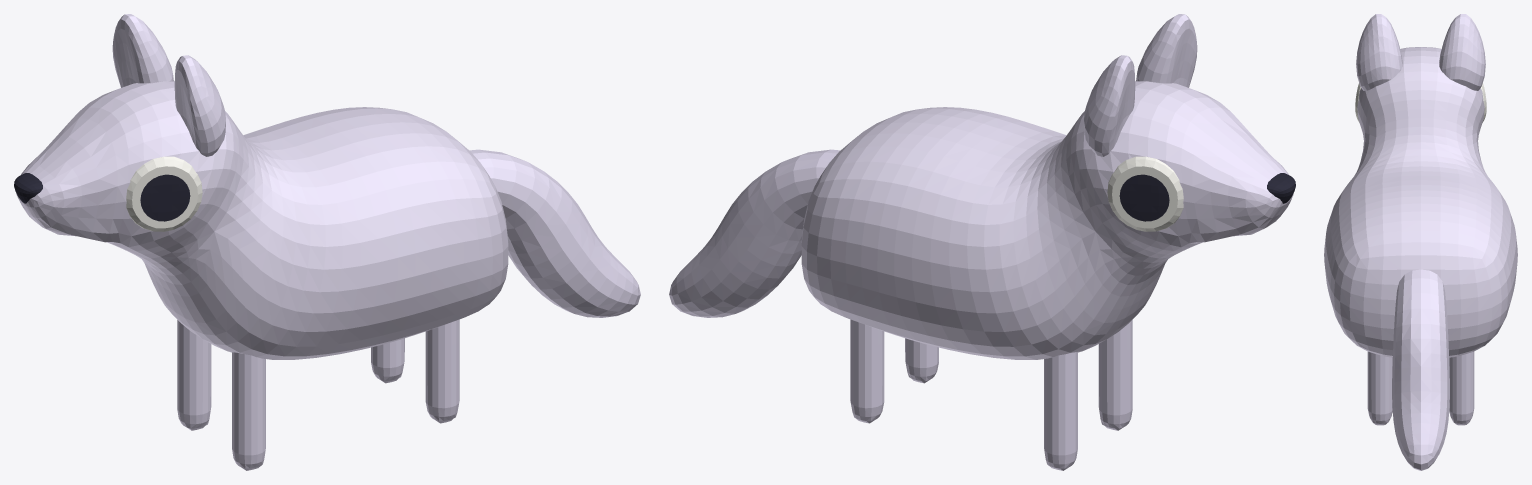
File: ArcticFox_LOD0.fbx
3 views of the same model, side by side, from view 1: azimuth 30°, elevation 25°; view 2: azimuth 150°, elevation 25°; view 3: azimuth 270°, elevation 25° (orthographic). The views are drawn at different scales.
Visible parts, largest first — view 1: Mesh; view 2: Mesh; view 3: Mesh.
Part boxes in pixels (x1,y1,x2,y2): Mesh: (14,14,640,470); Mesh: (669,14,1295,470); Mesh: (1324,14,1517,470).
Bounding box in the file's own units: 293 × 193 × 107.
1 material, 1 textured.
